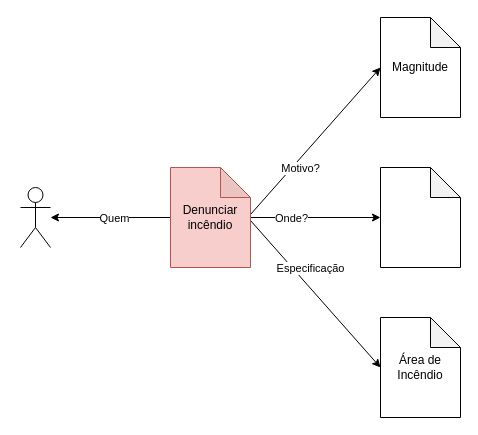
Image size: 478x435. Some labels were removed from this diagram. Each missing label, with the centre of its shape:
"Cliente" goes at (35,217).
"Local" goes at (420,217).
